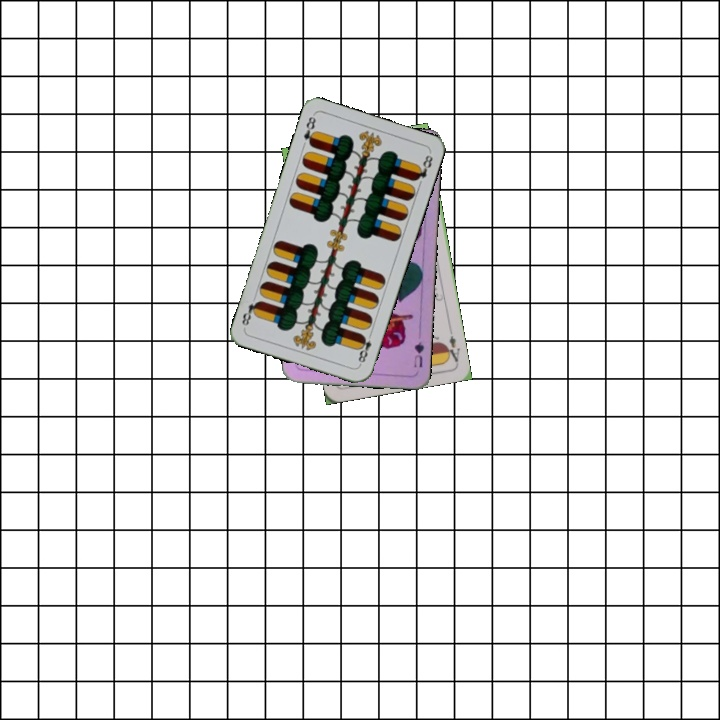E8: (354, 329, 375, 368), (299, 111, 319, 149)
EA: (442, 325, 462, 365)
GU: (410, 337, 427, 370)
